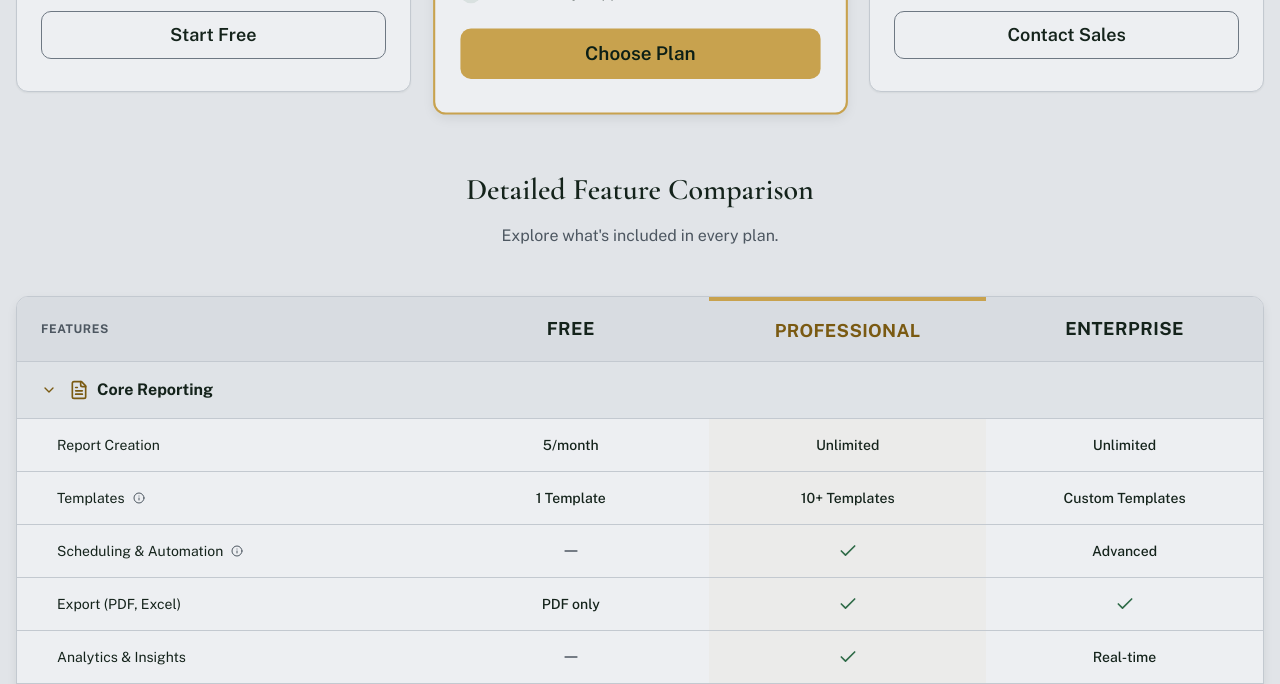
further public states on the public frame › pricing: a comparison category collapses and the FAQ opens, both themed
(page scrolled)
Expected: the heading "Detailed Feature Comparison" is shown, [466,170,814,208]
Expected: the text "Report Creation" is shown, [57,436,160,452]
Click the text "Core Reporting": (155, 390) [97,378,213,402]
(page scrolled)
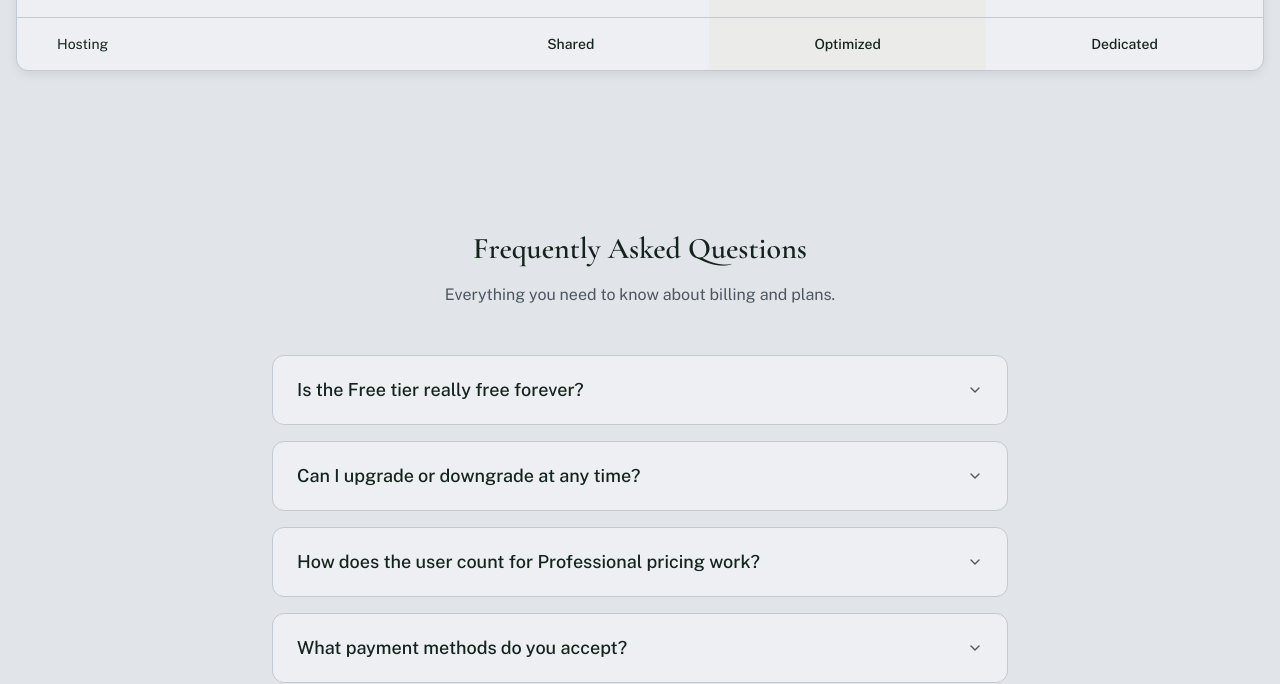
Now the text "Report Creation" is gone
Click the button "Is the Free tier really free forever?": (440, 389) [297,356,983,424]
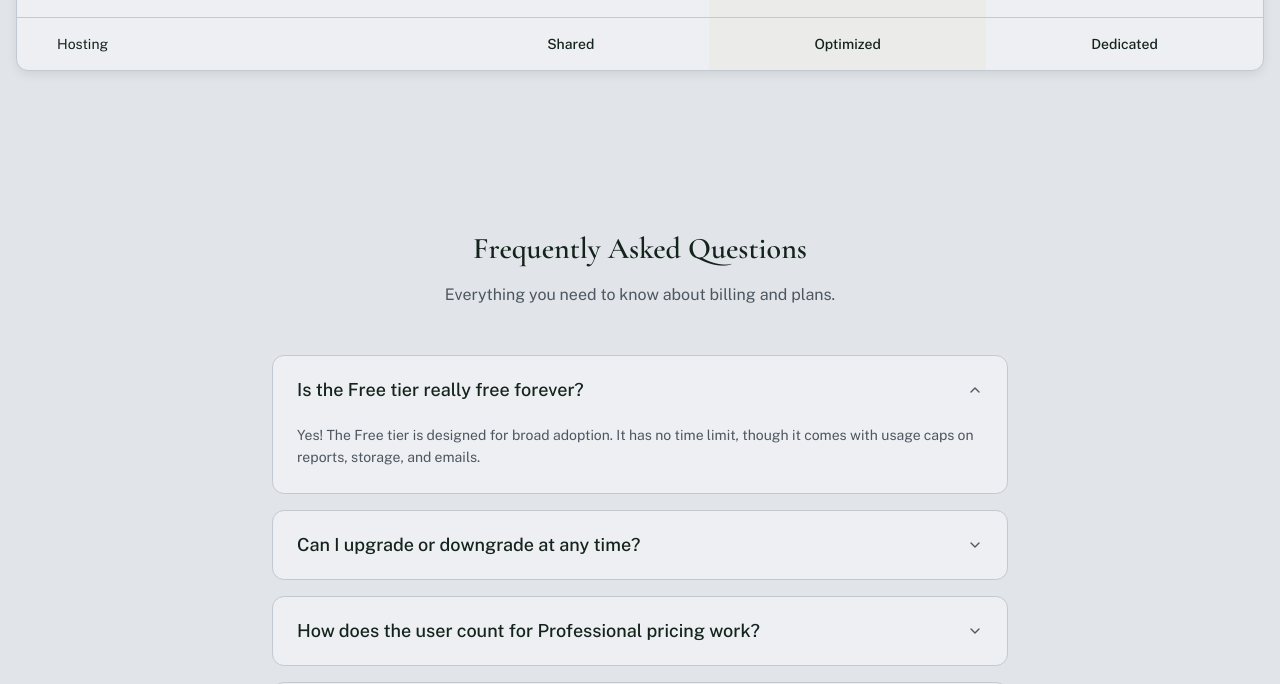
Now the text "Yes! The Free tier is designed for broad adoption. It has no time limit, though it comes with usage caps on reports, sto" is shown, box [297,426,974,465]
